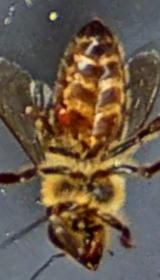varroa_mite: (44, 107, 80, 124)
